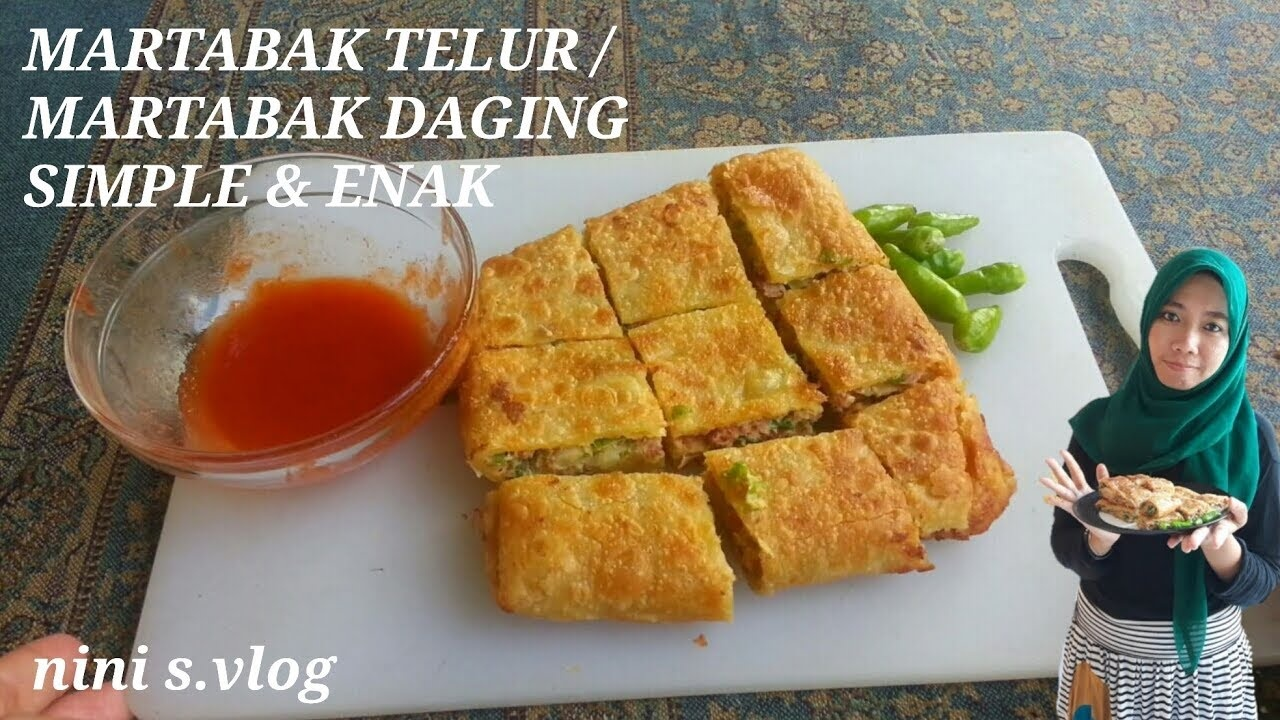martabak: (463, 148, 1019, 637)
